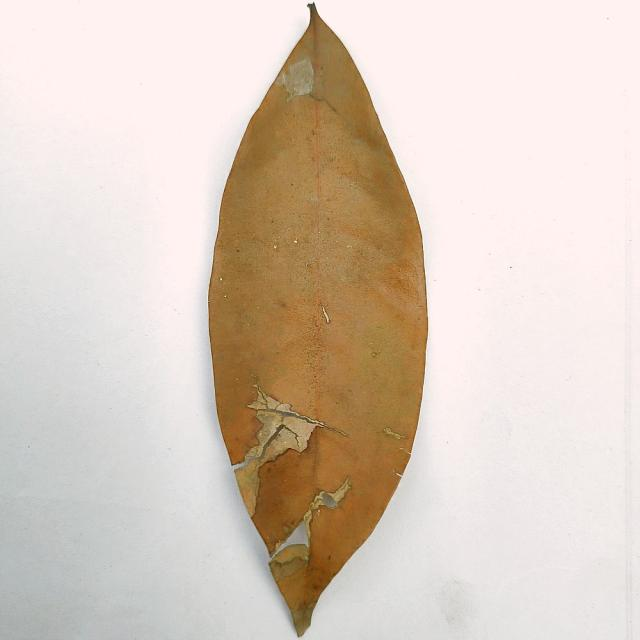Dry_Leaf-Lychee: (207, 6, 429, 637)
